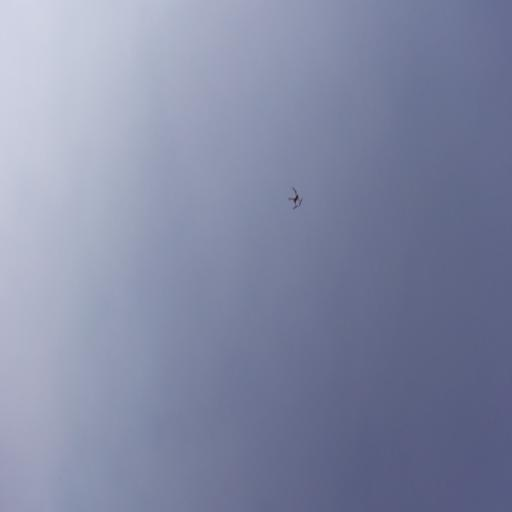drones: (288, 186, 304, 211)
